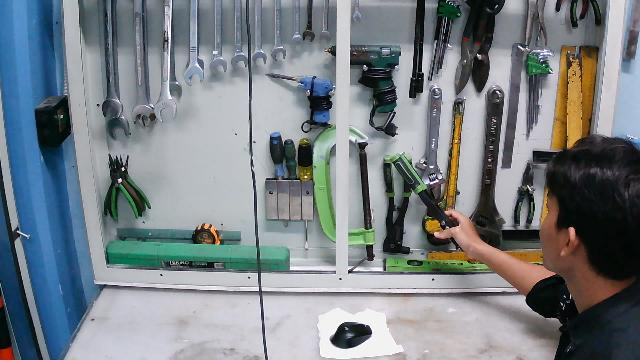tang_rivet: (390, 149, 455, 233)
